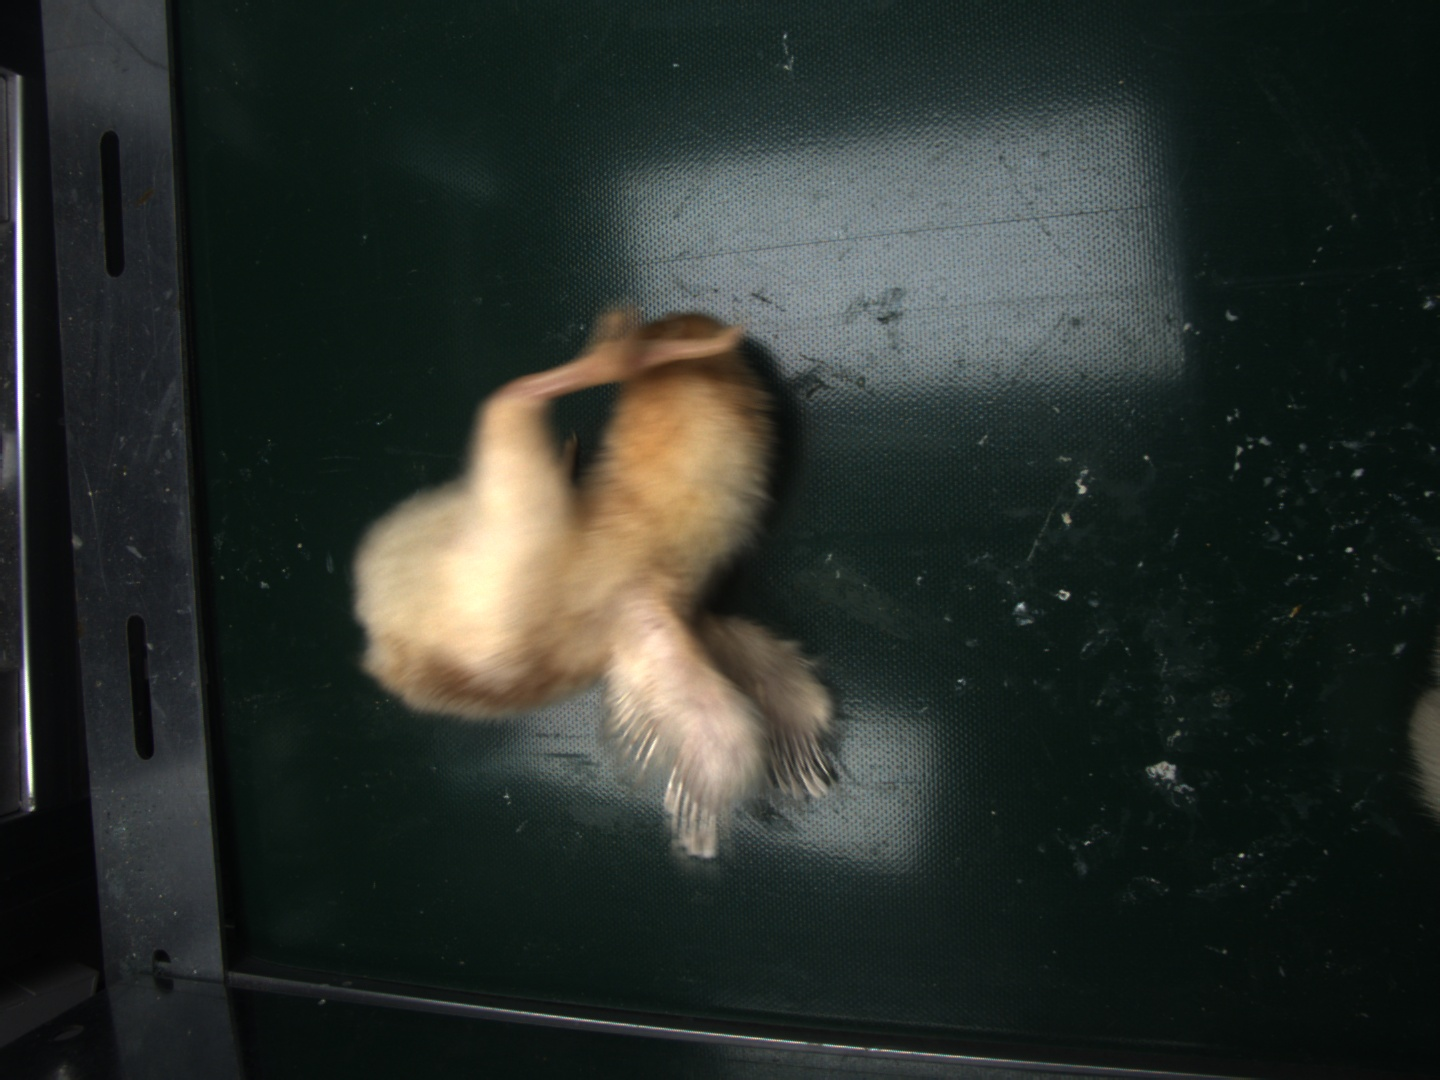female: (768, 736, 835, 795)
